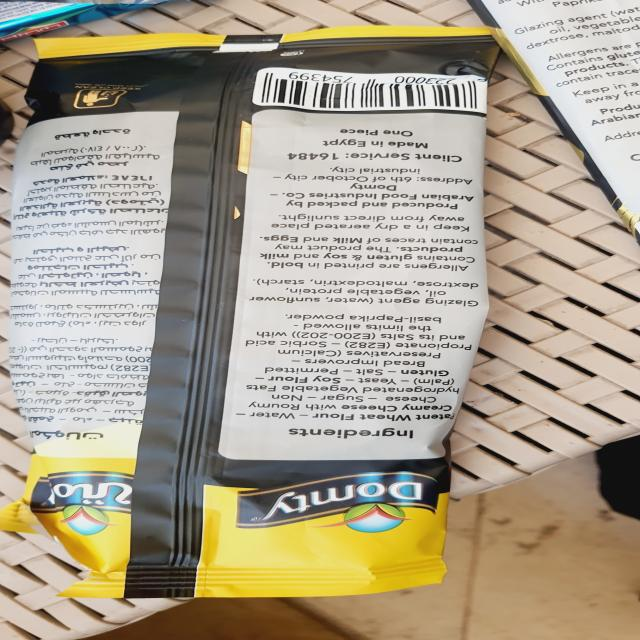Metal: (7, 21, 636, 600)
